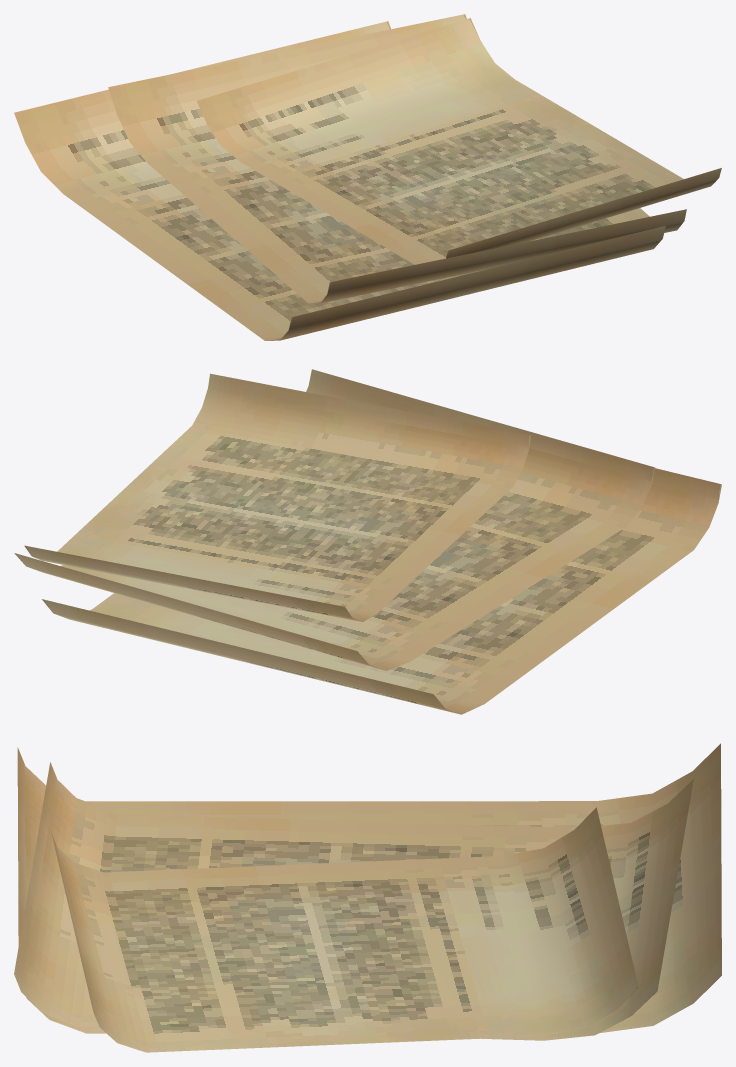
The model's file is stst153.dae.
3 views of the same model, one above another, from view 1: azimuth 30°, elevation 25°; view 2: azimuth 150°, elevation 25°; view 3: azimuth 270°, elevation 25° (orthographic). The views are drawn at different scales.
Parts seen in each view (by area): view 1: fake; view 2: fake; view 3: fake.
Part boxes in pixels (left/top/right/bottom): fake: left=14, top=14, right=721, bottom=340; fake: left=14, top=369, right=721, bottom=714; fake: left=14, top=743, right=721, bottom=1052.
Size of the model in its own units: 0.3623 by 0.3794 by 0.0455.
Materials: 1 (1 with a texture image).
